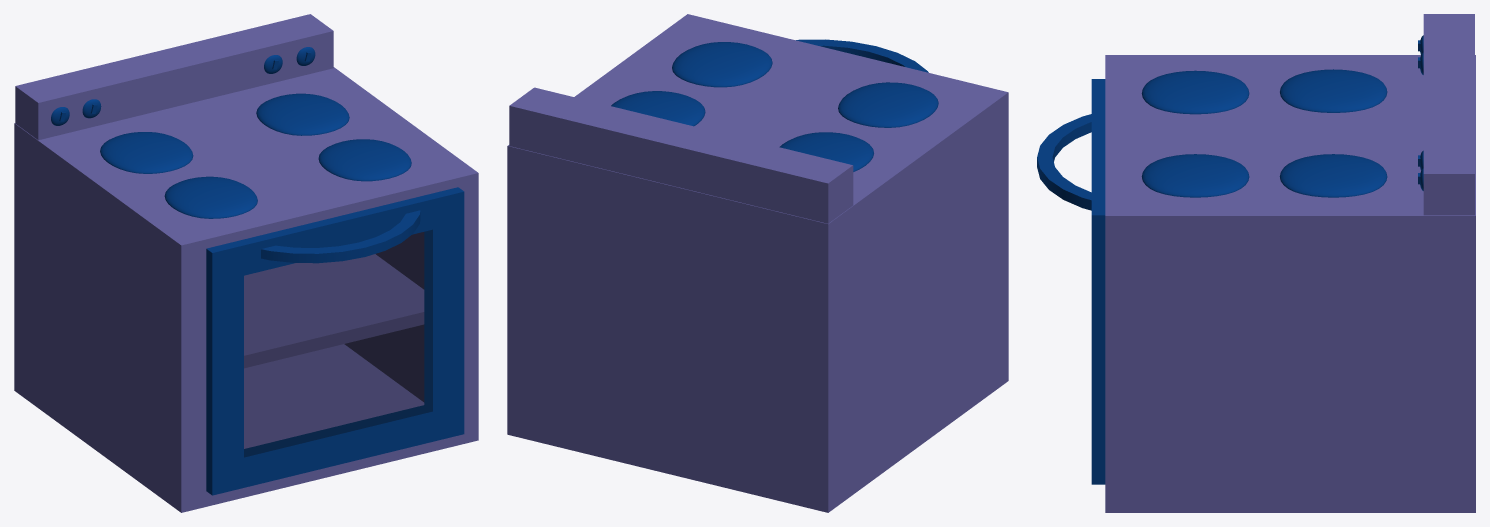
The model's file is kitchenoven.fbx.
3 views of the same model, side by side, from view 1: azimuth 30°, elevation 25°; view 2: azimuth 150°, elevation 25°; view 3: azimuth 270°, elevation 25° (orthographic). The views are drawn at different scales.
Visible parts, largest first — view 1: pCube4, pCube7, pCube2, pCube21, pCube9, pCube10, pCube11, pCube12, pCube6; view 2: pCube4, pCube2, pCube11, pCube10, pCube12, pCube9, pCube6; view 3: pCube4, pCube2, pCube7, pCube9, pCube10, pCube12, pCube11, pCube6.
Boxes of the visible parts, bbox=[...] form: pCube4: bbox=[14, 67, 478, 512]; pCube7: bbox=[206, 187, 464, 495]; pCube2: bbox=[15, 14, 333, 140]; pCube21: bbox=[244, 254, 424, 368]; pCube9: bbox=[256, 93, 349, 135]; pCube10: bbox=[318, 139, 411, 181]; pCube11: bbox=[164, 176, 257, 218]; pCube12: bbox=[100, 132, 193, 173]; pCube6: bbox=[261, 210, 420, 263]; pCube4: bbox=[507, 14, 1008, 512]; pCube2: bbox=[509, 87, 853, 223]; pCube11: bbox=[838, 82, 938, 127]; pCube10: bbox=[672, 42, 772, 87]; pCube12: bbox=[779, 132, 873, 171]; pCube9: bbox=[611, 91, 705, 126]; pCube6: bbox=[796, 39, 928, 72]; pCube4: bbox=[1105, 55, 1475, 512]; pCube2: bbox=[1423, 14, 1474, 215]; pCube7: bbox=[1091, 79, 1105, 484]; pCube9: bbox=[1279, 154, 1387, 197]; pCube10: bbox=[1141, 154, 1249, 197]; pCube12: bbox=[1280, 69, 1387, 112]; pCube11: bbox=[1141, 70, 1249, 114]; pCube6: bbox=[1037, 114, 1091, 210].
Size of the model in its own units: 3.44 by 3.37 by 3.96.
